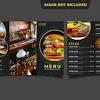paper: (7, 21, 100, 76)
